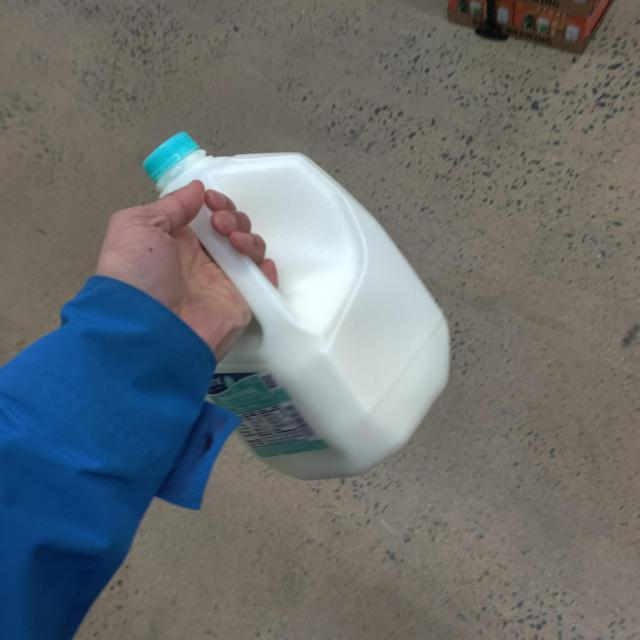Milk: (125, 103, 479, 498)
